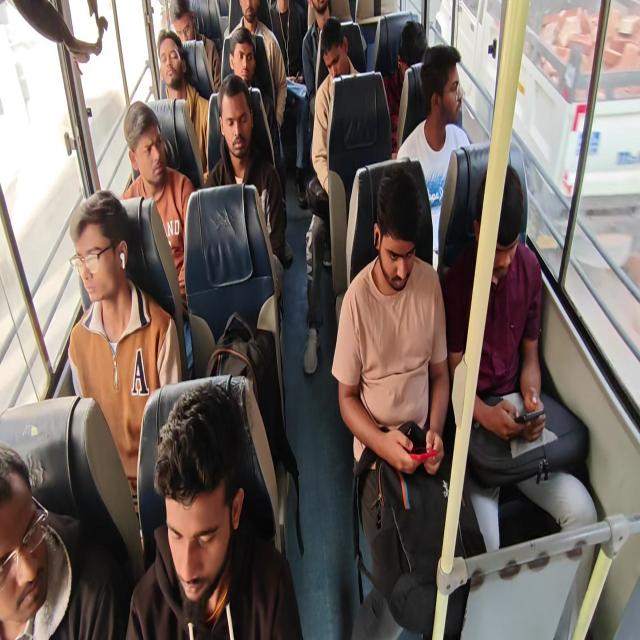person: (331, 166, 487, 638), (442, 162, 598, 560), (125, 382, 304, 639), (67, 189, 182, 533), (0, 442, 121, 638), (302, 17, 360, 374), (203, 73, 286, 314), (396, 44, 472, 271), (223, 26, 293, 265), (120, 100, 195, 312), (262, 0, 309, 207), (228, 0, 287, 146), (156, 28, 210, 174), (383, 20, 427, 158), (300, 0, 331, 175), (166, 0, 221, 93), (266, 0, 308, 84)
